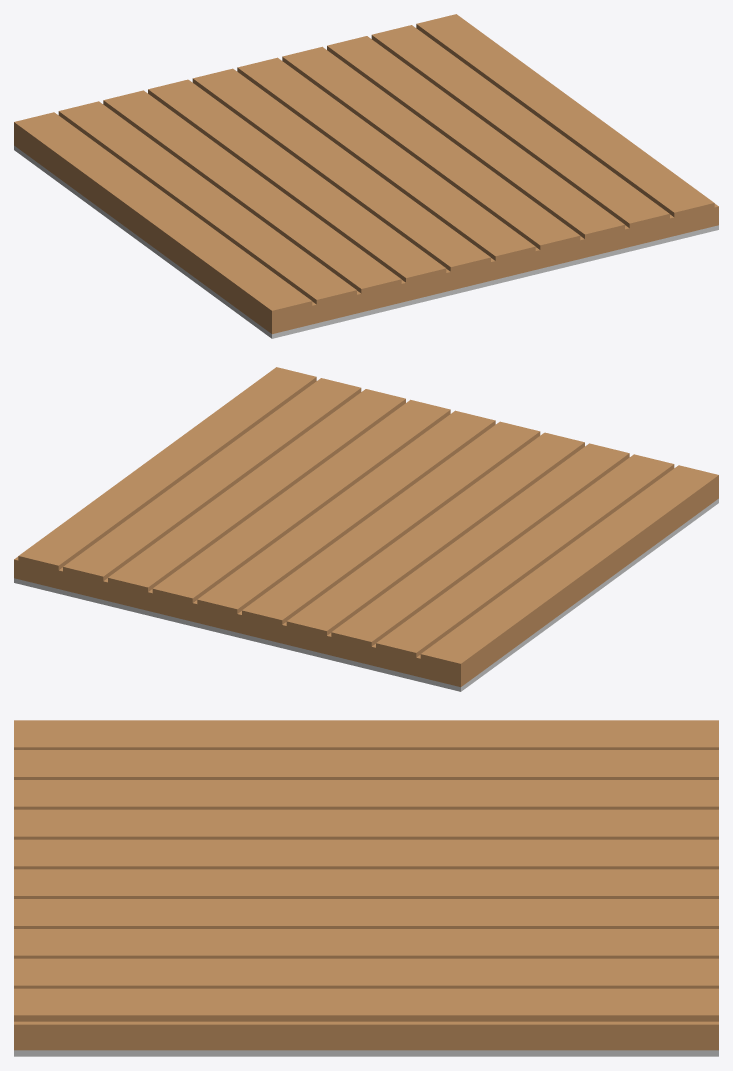
File: ceiling.obj
3 views of the same model, one above another, from view 1: azimuth 30°, elevation 25°; view 2: azimuth 150°, elevation 25°; view 3: azimuth 270°, elevation 25° (orthographic). The views are drawn at different scales.
Bounding box in the file's own units: 10 × 0.6 × 10.
1 material, 1 textured.
